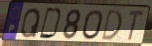8: (62, 8, 82, 41)
D: (38, 7, 64, 40), (100, 9, 124, 42)
O: (81, 9, 104, 41)
Q: (19, 7, 42, 40)
T: (126, 9, 146, 43)
